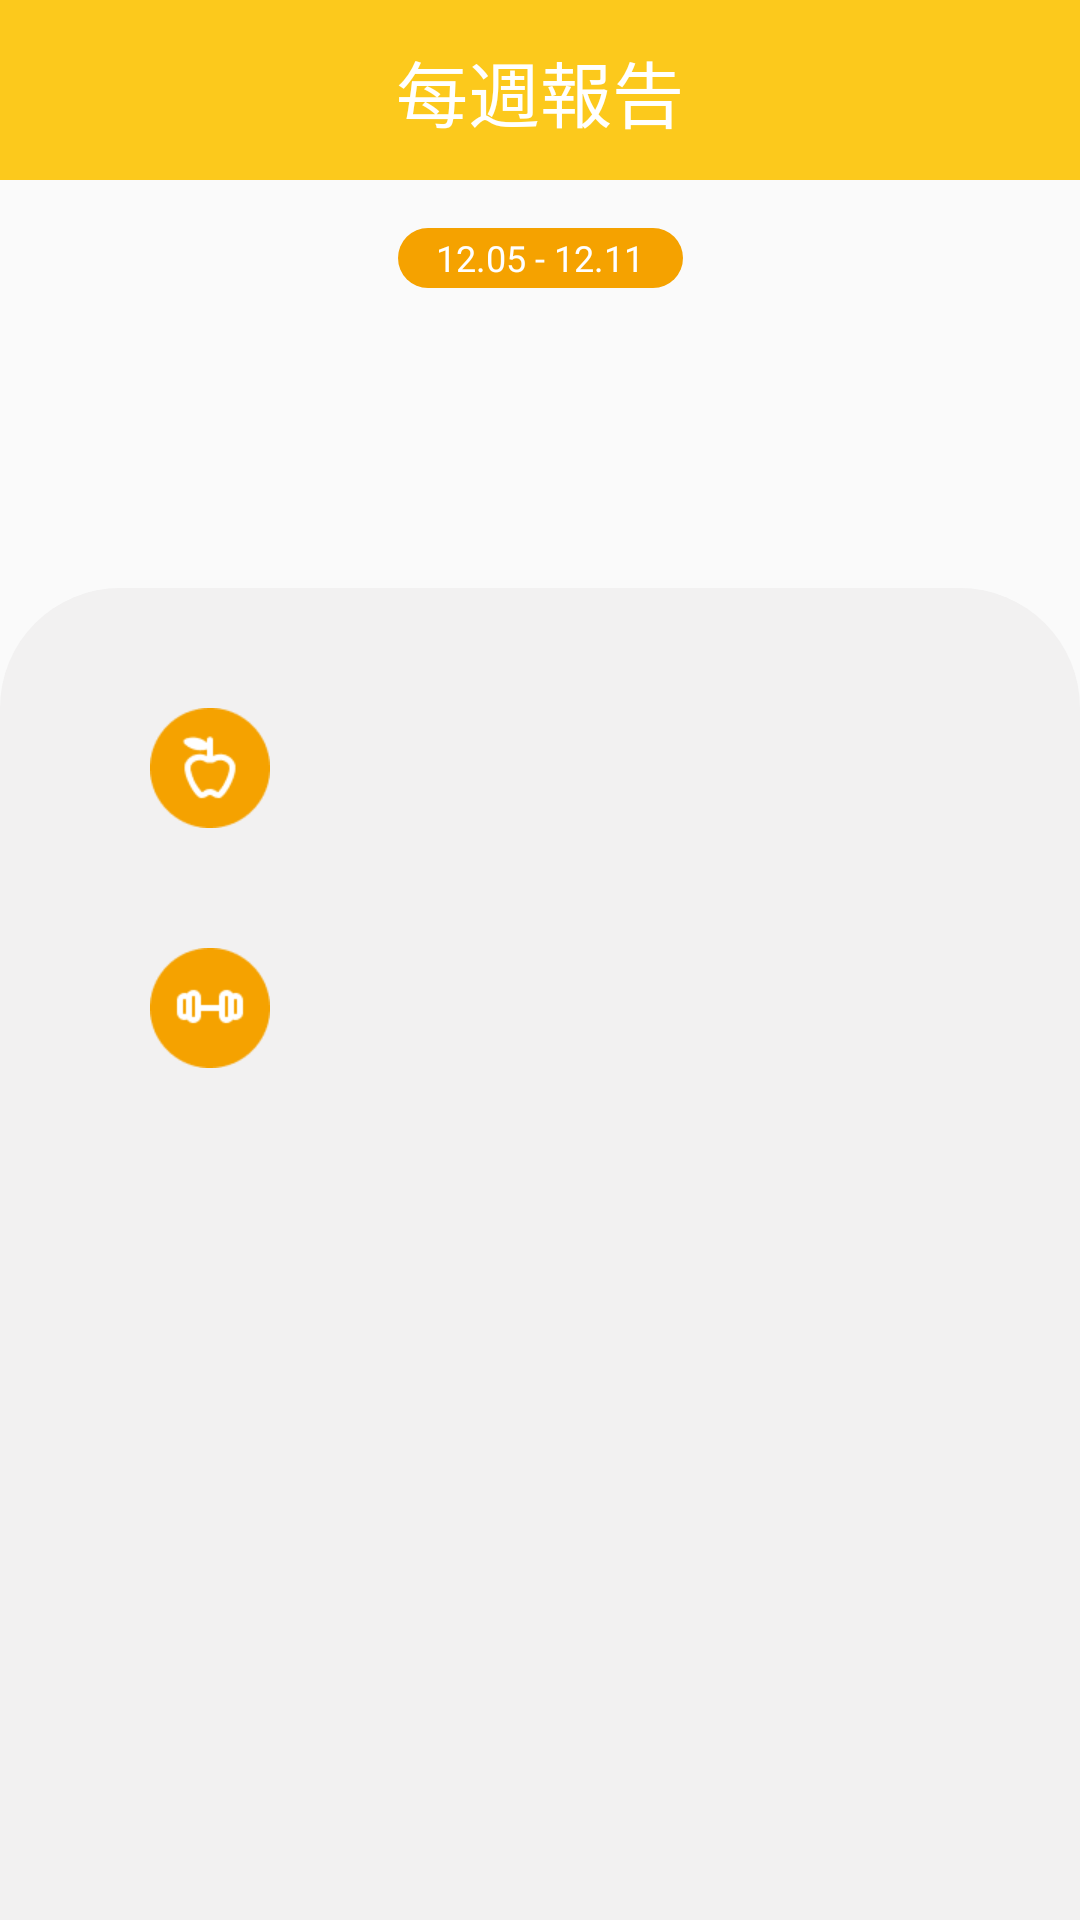

Where to tap for icons on this 1080 x 1920 app screen, as (x=x, y=y):
apple: (x=210, y=768)
dumbbell: (x=210, y=1008)
